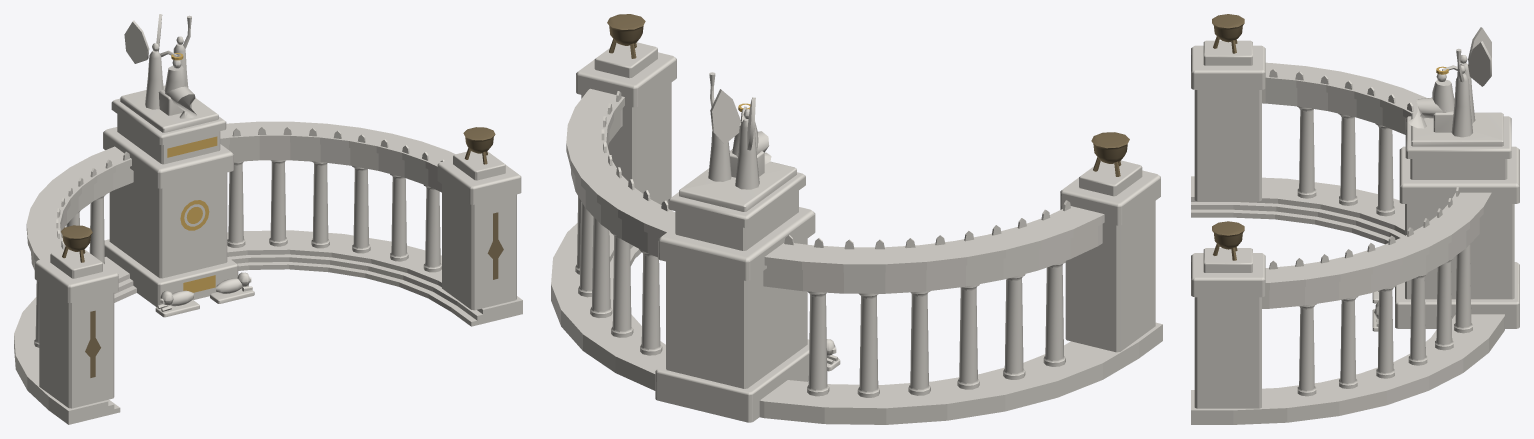
Rendered from mexico-city-hemiciclo-a-juarez.glb.
The picture shows the model from 3 angles, left to right: view 1: azimuth 30°, elevation 25°; view 2: azimuth 150°, elevation 25°; view 3: azimuth 270°, elevation 25°; orthographic projection. The views are drawn at different scales.
Parts seen in each view (by area): view 1: Hemiciclo a Juárez; view 2: Hemiciclo a Juárez; view 3: Hemiciclo a Juárez.
Part boxes in pixels (x1=…): Hemiciclo a Juárez: x1=14, y1=14, x2=522, y2=424; Hemiciclo a Juárez: x1=551, y1=14, x2=1162, y2=424; Hemiciclo a Juárez: x1=1191, y1=14, x2=1519, y2=424.
Size of the model in its own units: 30.8 by 16.5 by 18.3.
